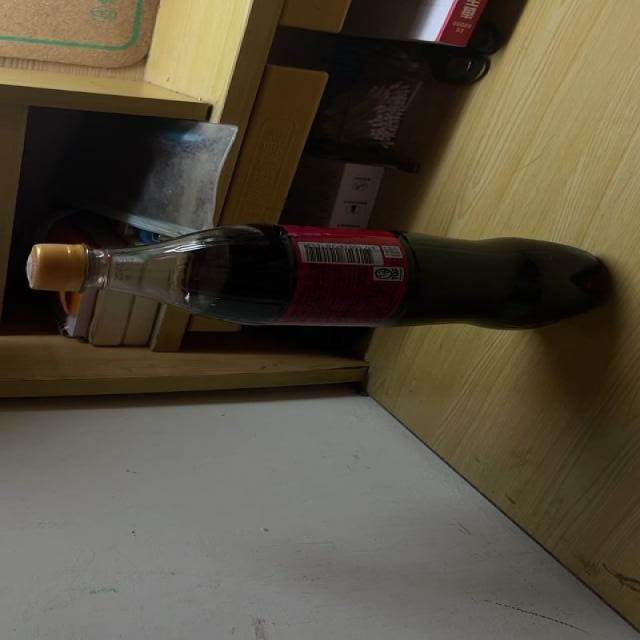Coca-Cola: (24, 225, 612, 330)
